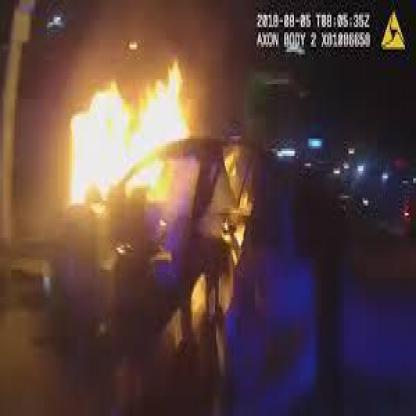fire: (53, 61, 208, 213)
